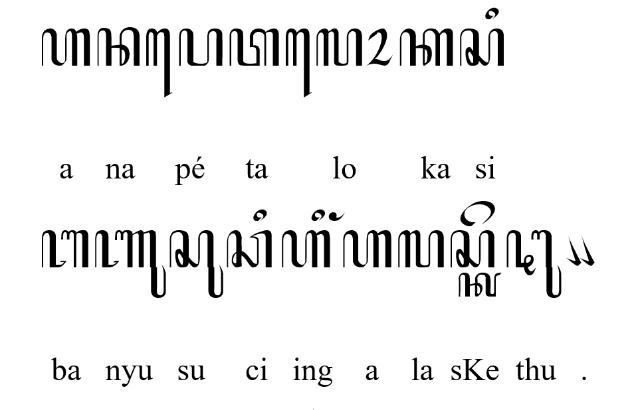K: (458, 271, 500, 298)
b: (41, 229, 89, 268)
c: (226, 231, 274, 269)
e: (460, 200, 496, 228)
e1: (146, 28, 172, 98), (286, 29, 312, 99)
h: (342, 230, 392, 270), (281, 229, 331, 268), (42, 27, 90, 67)
i: (253, 208, 267, 222), (485, 7, 499, 19), (312, 210, 324, 223)
k: (399, 28, 455, 66)
kom: (580, 236, 596, 268), (567, 237, 581, 267)
l: (316, 28, 362, 66), (398, 230, 444, 268)
n: (96, 27, 140, 67)
ng: (328, 212, 346, 222)
nyu1: (92, 229, 166, 298)
o: (365, 28, 393, 66)
p: (178, 28, 224, 66)
s: (450, 229, 494, 268), (460, 29, 504, 67)
su: (168, 229, 224, 299)
t: (228, 28, 280, 66)
thu: (506, 229, 562, 299)
